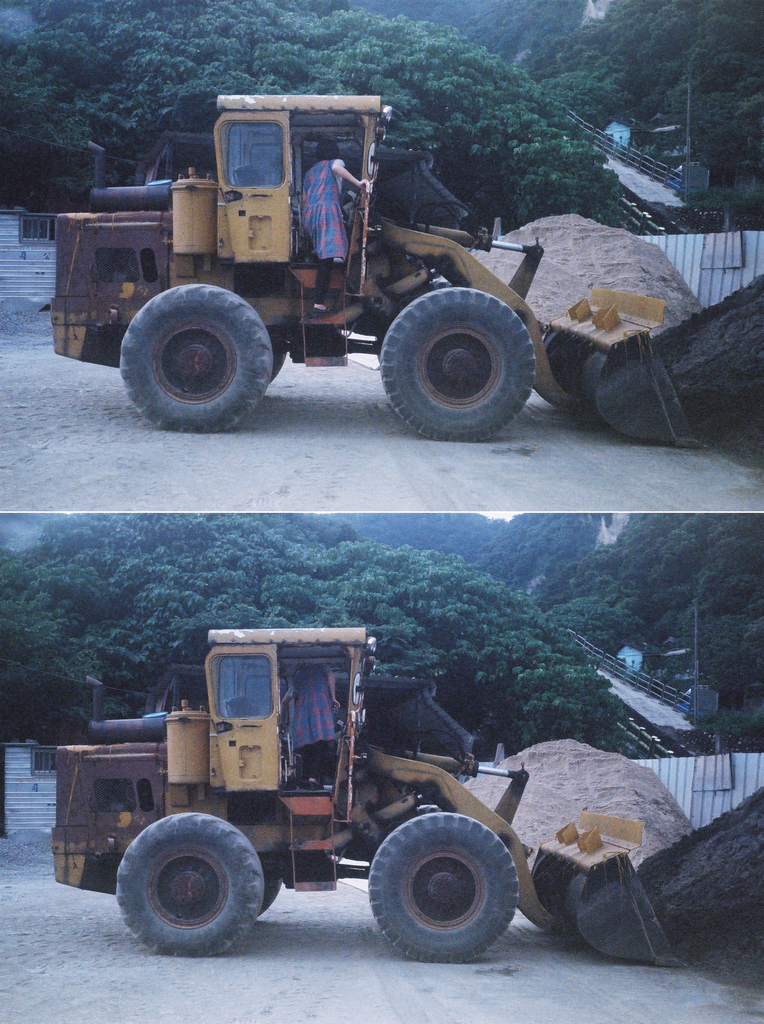Tree: (0, 509, 763, 762), (0, 0, 764, 233)
